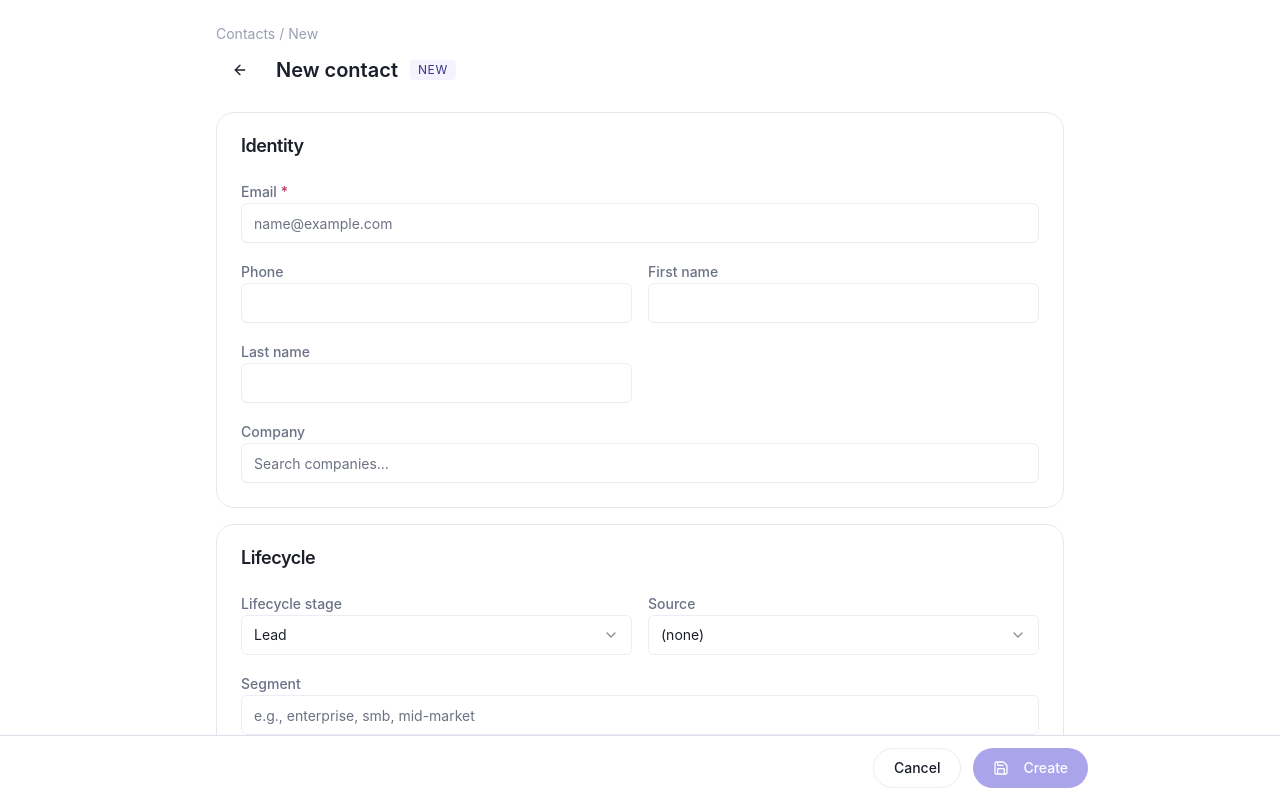
Scenario: KAN-934 — ContactForm › (4) Save button enables after first field change
The width and height of the screenshot is (1280, 800).
Type "new@test.local" into the field labelled "Email *". click: (640, 223)
box: [241,203,1039,243]
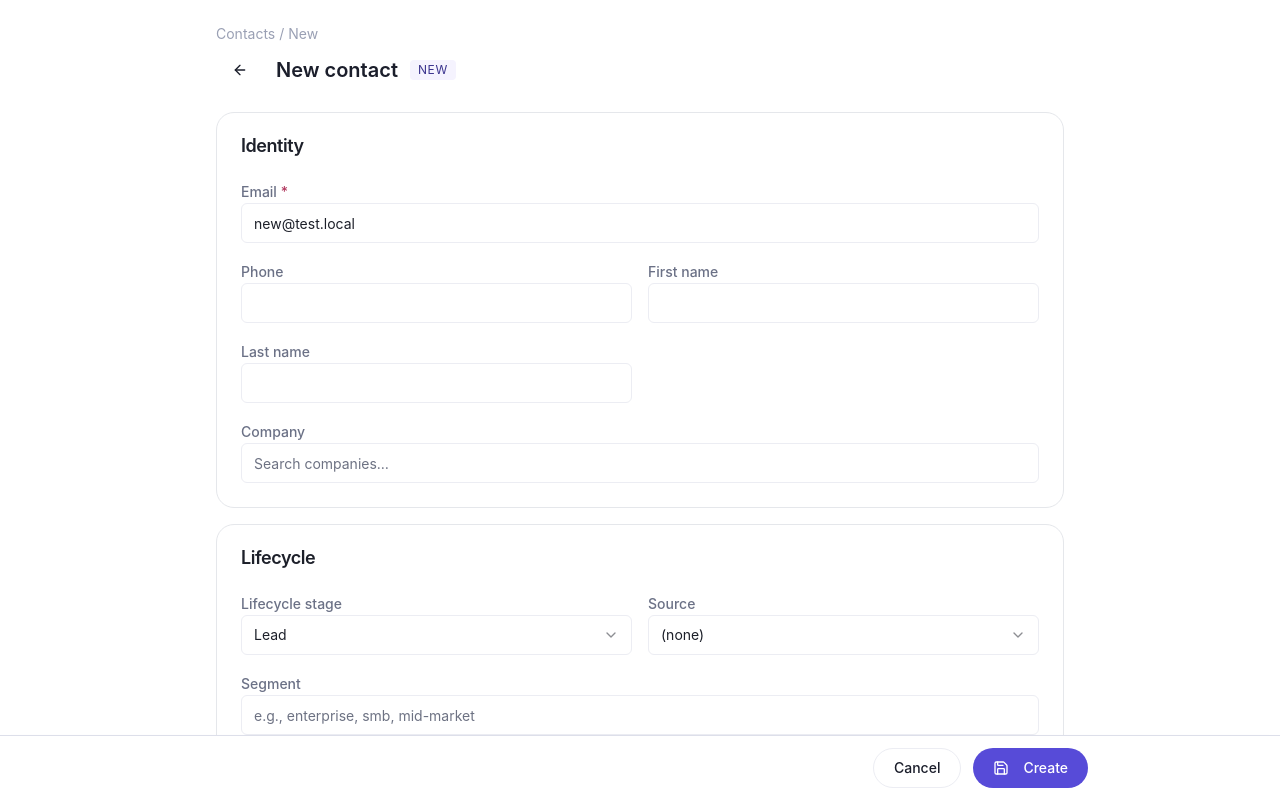
Expected: the button "Create" is enabled, [973,748,1088,788]
